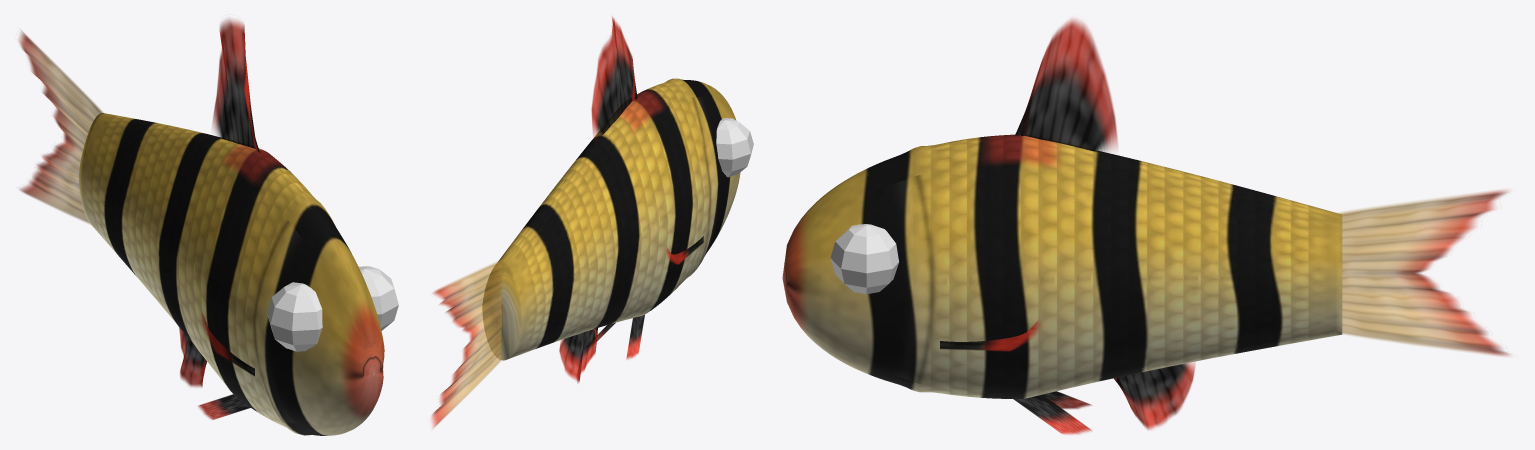
The model's file is barb.glb.
3 renders of one model, left to right at view 1: azimuth 30°, elevation 25°; view 2: azimuth 150°, elevation 25°; view 3: azimuth 270°, elevation 25°, orthographic. The views are drawn at different scales.
Parts seen in each view (by area): view 1: Body, Fins, EyeL, EyeR, PectL; view 2: Body, Fins, EyeL, PectL; view 3: Body, Fins, EyeR, PectR.
Part boxes in pixels (x1,y1,x2,y2): Body: [78, 113, 384, 435]; Fins: [18, 19, 259, 419]; EyeL: [267, 282, 322, 351]; EyeR: [358, 266, 398, 330]; PectL: [201, 313, 254, 376]; Body: [482, 78, 740, 360]; Fins: [431, 17, 644, 428]; EyeL: [716, 118, 753, 177]; PectL: [666, 236, 703, 264]; Body: [782, 134, 1342, 398]; Fins: [1013, 19, 1509, 434]; EyeR: [830, 224, 898, 294]; PectR: [940, 320, 1039, 351].
Bounding box in the file's own units: 0.1 × 0.31 × 0.4989.
Materials: 2 (2 with a texture image).
